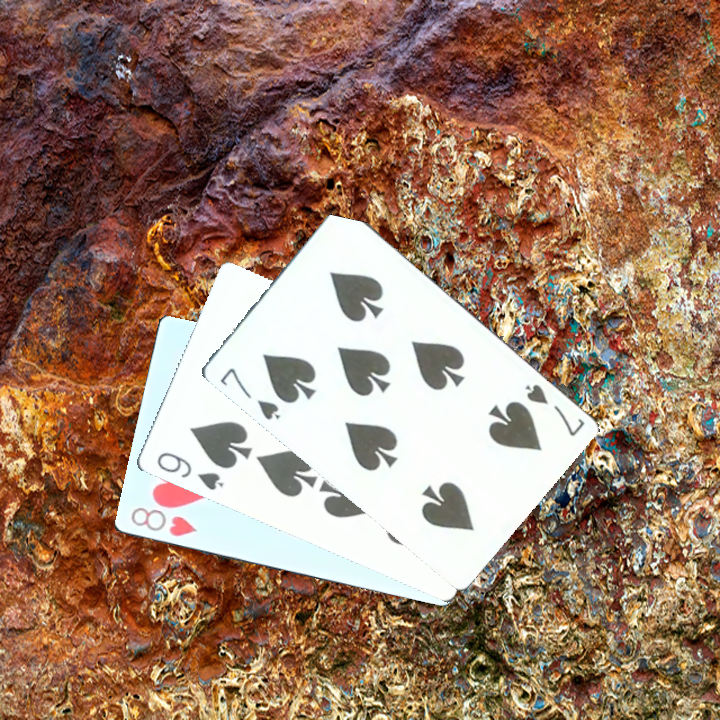7s: (521, 379, 588, 439), (216, 363, 281, 423)
8h: (126, 502, 199, 539)
9s: (152, 448, 226, 493)
